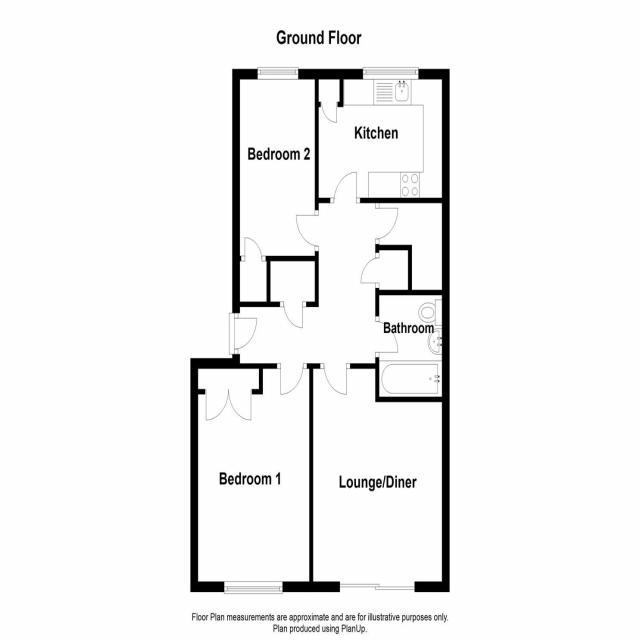DOOR: (374, 320, 400, 355), (374, 207, 400, 241), (333, 170, 358, 204), (323, 362, 348, 396), (233, 317, 258, 350), (295, 214, 319, 248), (280, 362, 304, 396)
ROOM: (309, 363, 450, 593), (190, 363, 315, 595), (314, 67, 450, 205), (232, 68, 319, 263)
WINDOW: (224, 580, 283, 595), (362, 66, 420, 81), (257, 66, 299, 81)
